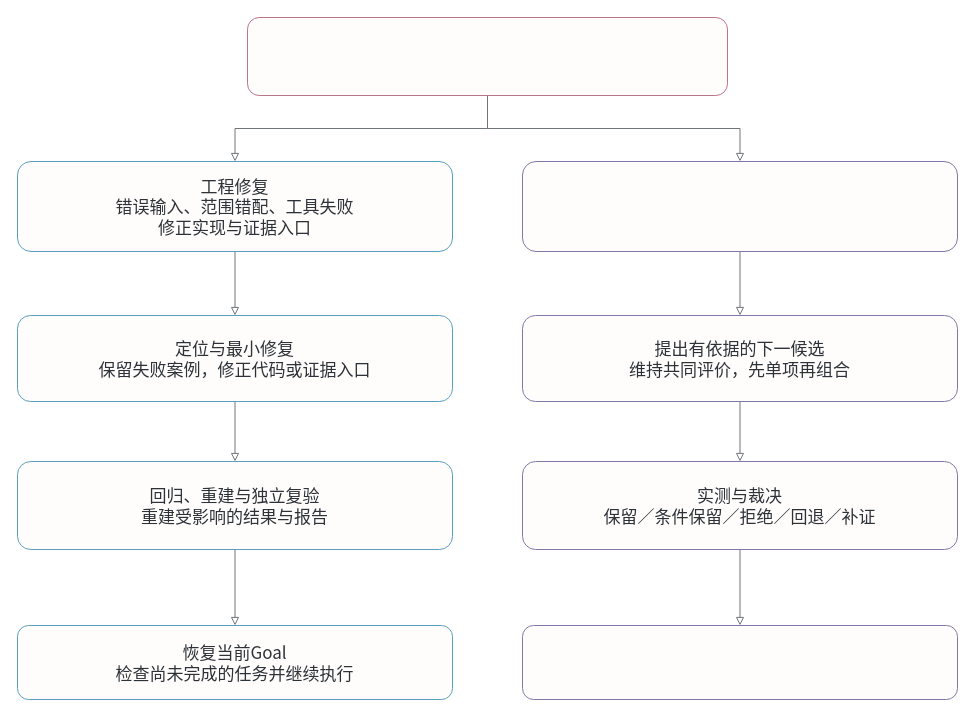
Some shapes in this 975 by 717 pixel diagram are drawn without their labels. The shapes that lost their labels are listed below. From the top down, each one's centre as x and y in pixels, then its label:
pixel 487 56: 检查当前结果：下一步处理什么？ 先区分实现错误与有效但无收益的候选
pixel 740 206: 研究优化 执行与比较有效 但收益不足、存在权衡或退化
pixel 740 662: 更新可用版本与经验 依据后续价值决定继续或停止
